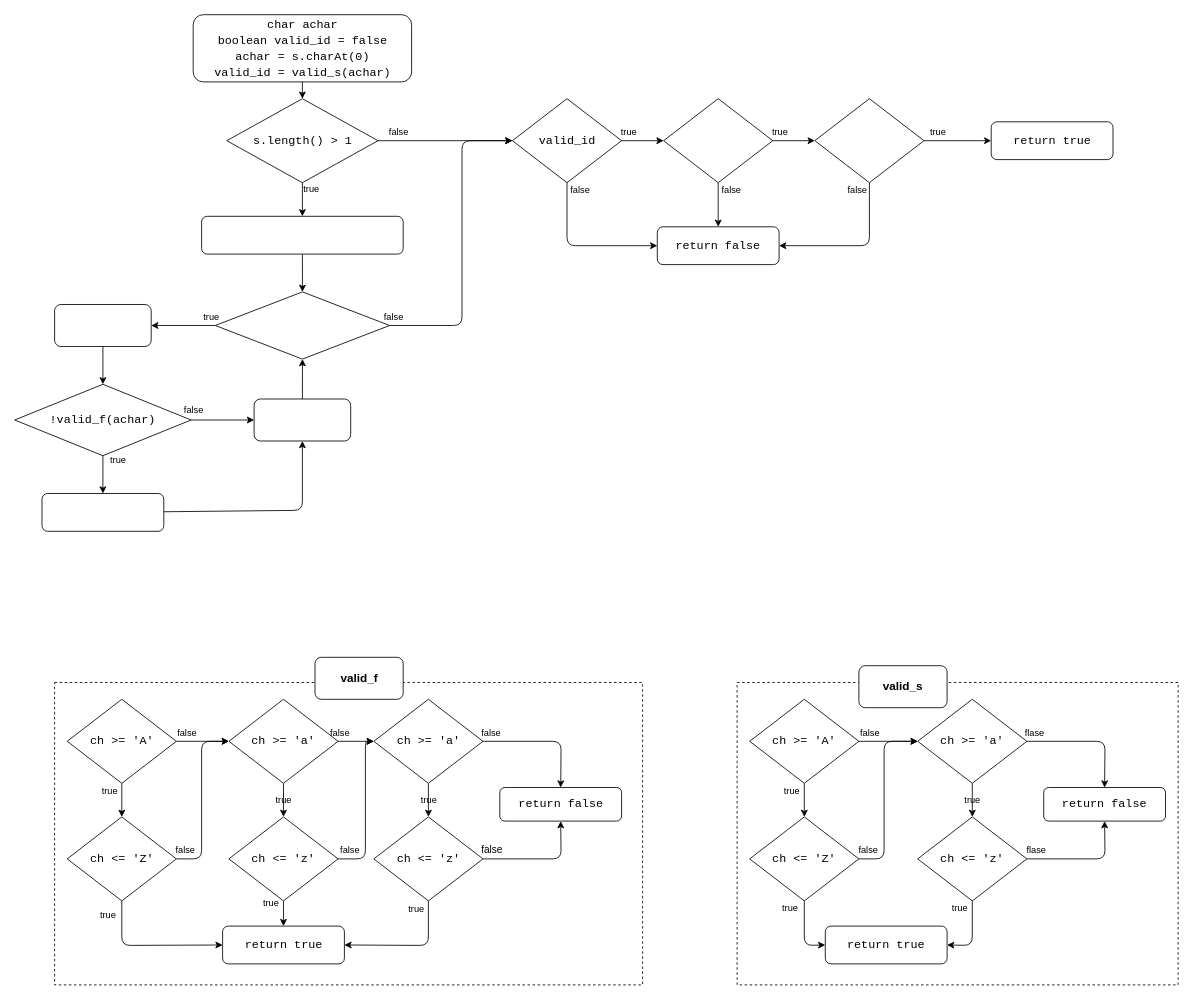
Image size: 1193x1000. Some labels were removed from this diagram. Each missing label, with the box of its shape:
achar = s . charAt ( 1 ) int i = 1: (201, 215, 403, 254)
achar = s.charAt(i): (54, 304, 151, 346)
i < s . length () - 1: (214, 291, 390, 359)
i++: (253, 398, 351, 441)
s.length() < 6: (814, 98, 924, 183)
s.length() >= 1: (663, 98, 773, 183)
valid_id = false: (41, 493, 164, 531)
